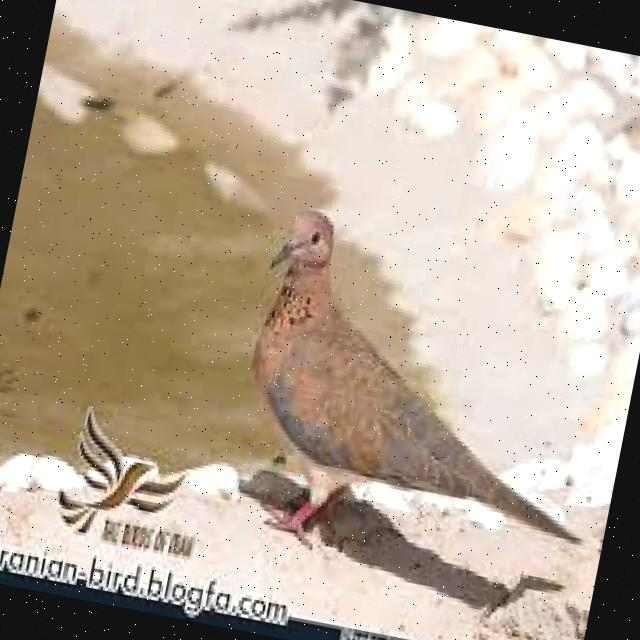dove: (213, 200, 636, 602)
